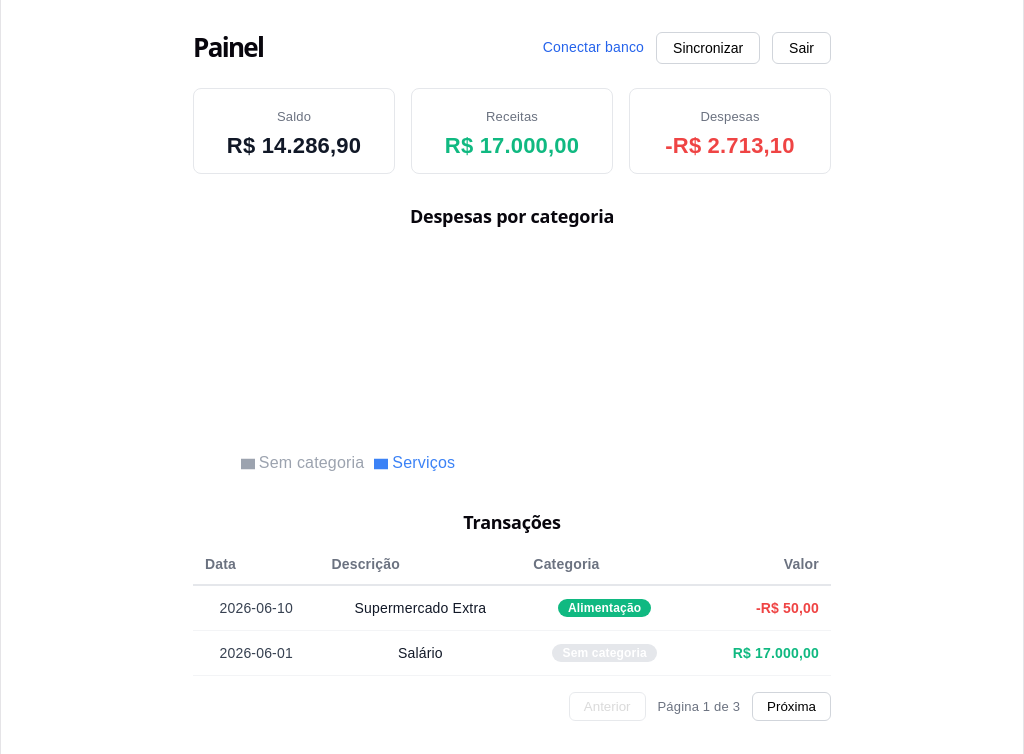
DashboardPage › shows generic message when transactions/fetch/ returns non-503 error
Expected: the text "Supermercado Extra" is shown, [319,585,521,631]
Click the button "Sincronizar": [708, 48] box [656,32,760,64]
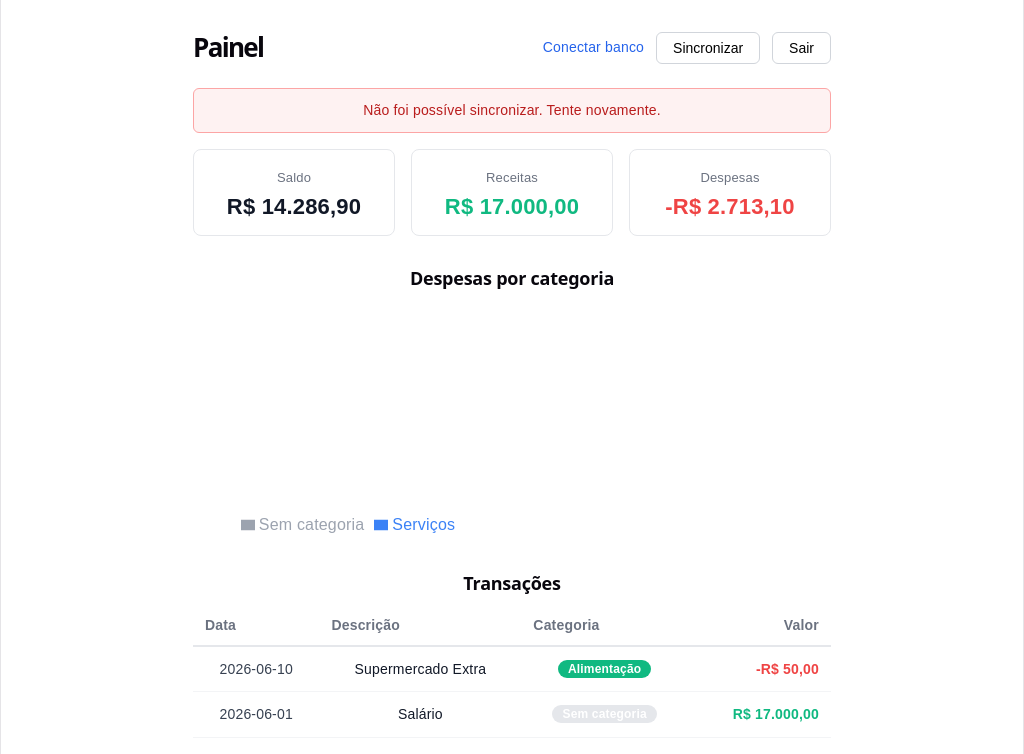
Expected: the text "Não foi possível sincronizar. Tente novamente." is shown, [193,88,831,133]
